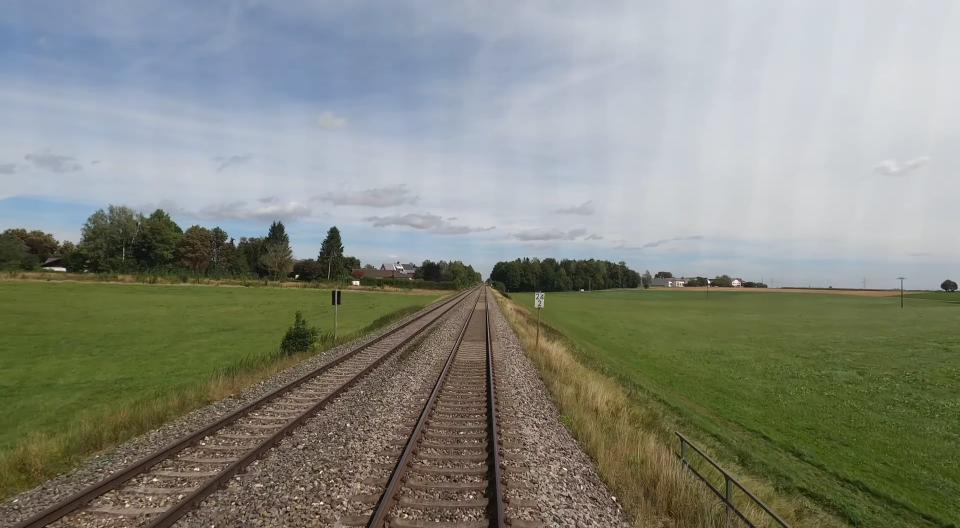Plant: (399, 328, 438, 362)
